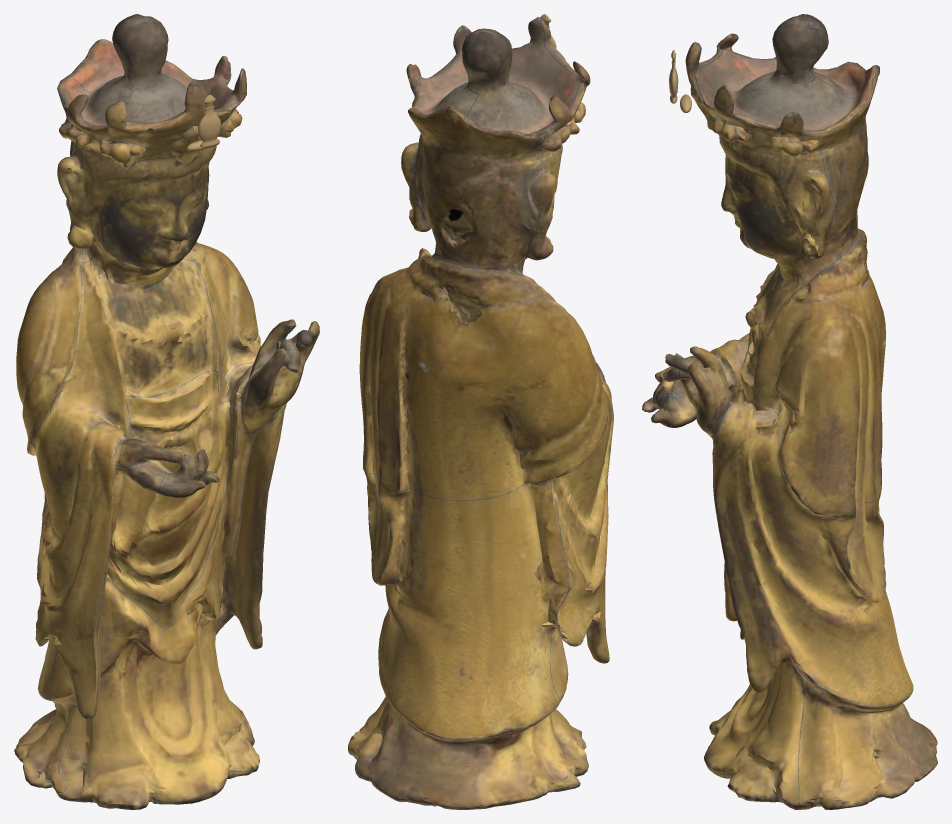
Rendered from mahastamaprapta-762587ff0b89.glb.
The picture shows the model from 3 angles, left to right: view 1: azimuth 30°, elevation 25°; view 2: azimuth 150°, elevation 25°; view 3: azimuth 270°, elevation 25°; orthographic projection. The views are drawn at different scales.
Parts seen in each view (by area): view 1: NMK_Goryeo_companion_interpreted_as_mahastamaprapta, Mahasthamaprapta crown water vessel; view 2: NMK_Goryeo_companion_interpreted_as_mahastamaprapta; view 3: NMK_Goryeo_companion_interpreted_as_mahastamaprapta.
Boxes of the visible parts, x1,y1,x2,y2 form: NMK_Goryeo_companion_interpreted_as_mahastamaprapta: (14, 14, 319, 809); Mahasthamaprapta crown water vessel: (198, 95, 220, 147); NMK_Goryeo_companion_interpreted_as_mahastamaprapta: (348, 17, 613, 809); NMK_Goryeo_companion_interpreted_as_mahastamaprapta: (642, 14, 937, 809).
Size of the model in its own units: 0.334 by 1 by 0.3612.
2 materials, 1 textured.
